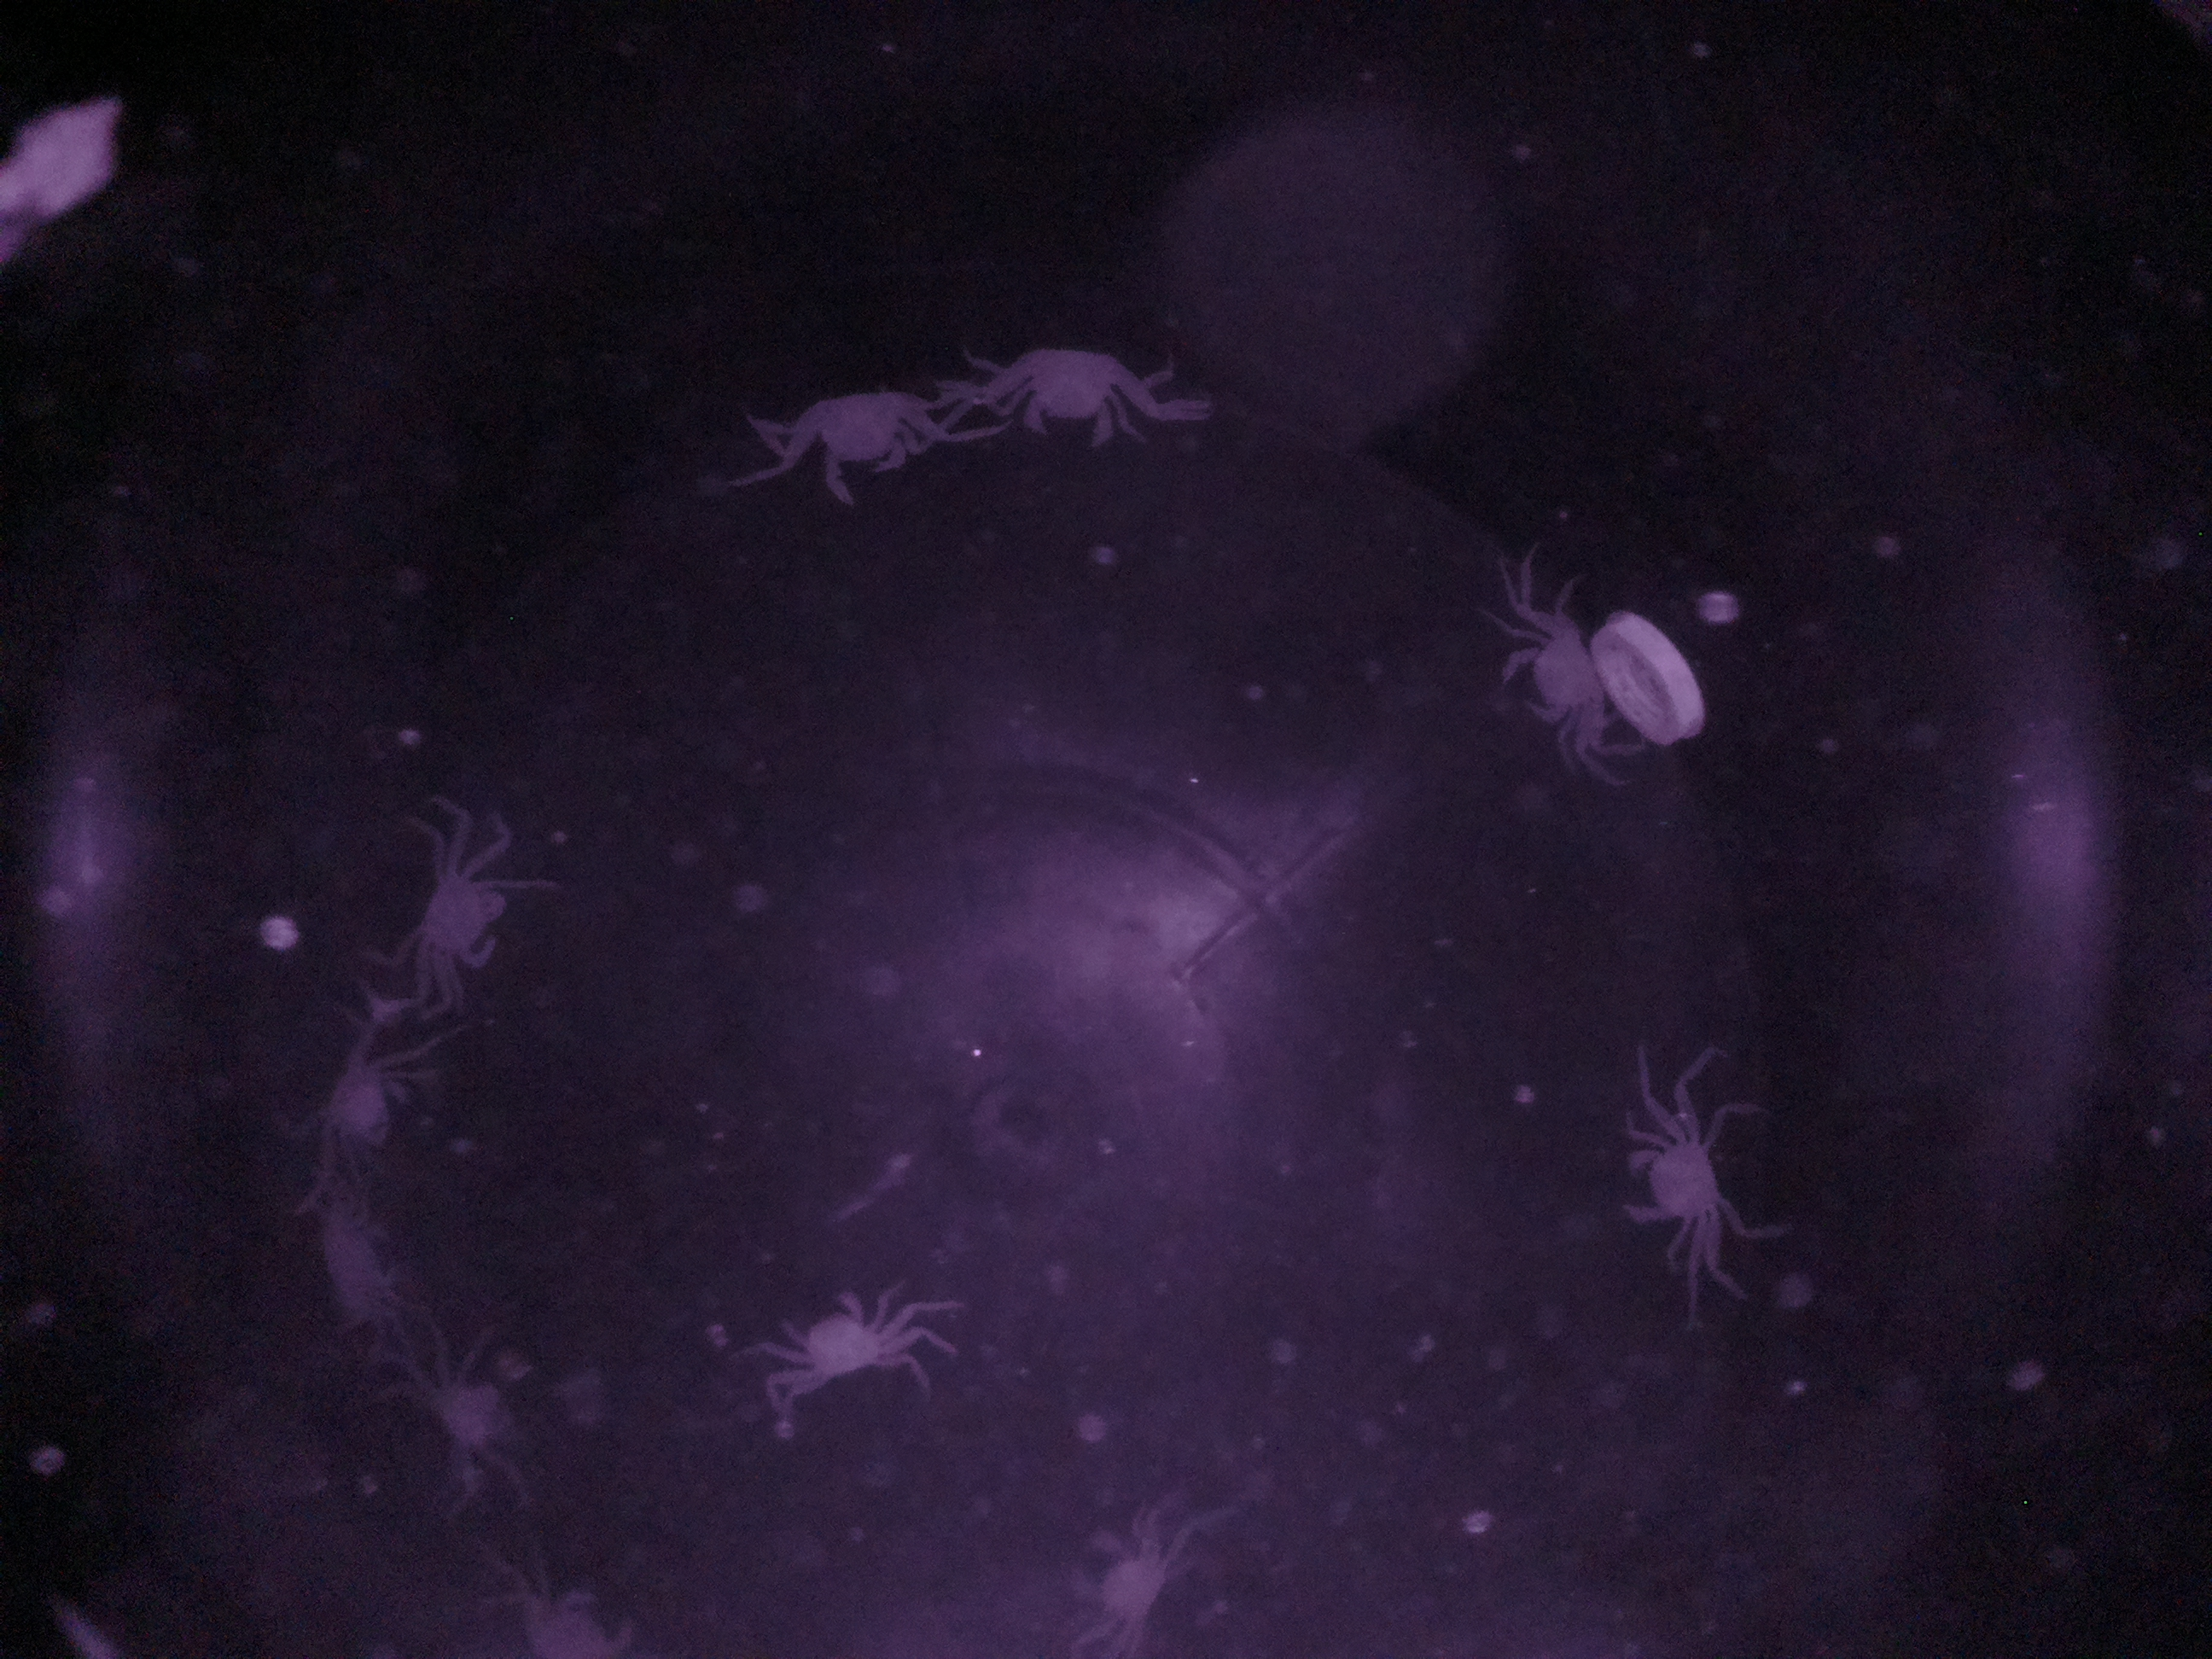Crab: (1602, 1079, 1782, 1276), (747, 1262, 928, 1438), (988, 286, 1160, 462), (1038, 1507, 1217, 1656), (789, 352, 946, 518), (383, 828, 526, 1009), (1486, 599, 1634, 762)
